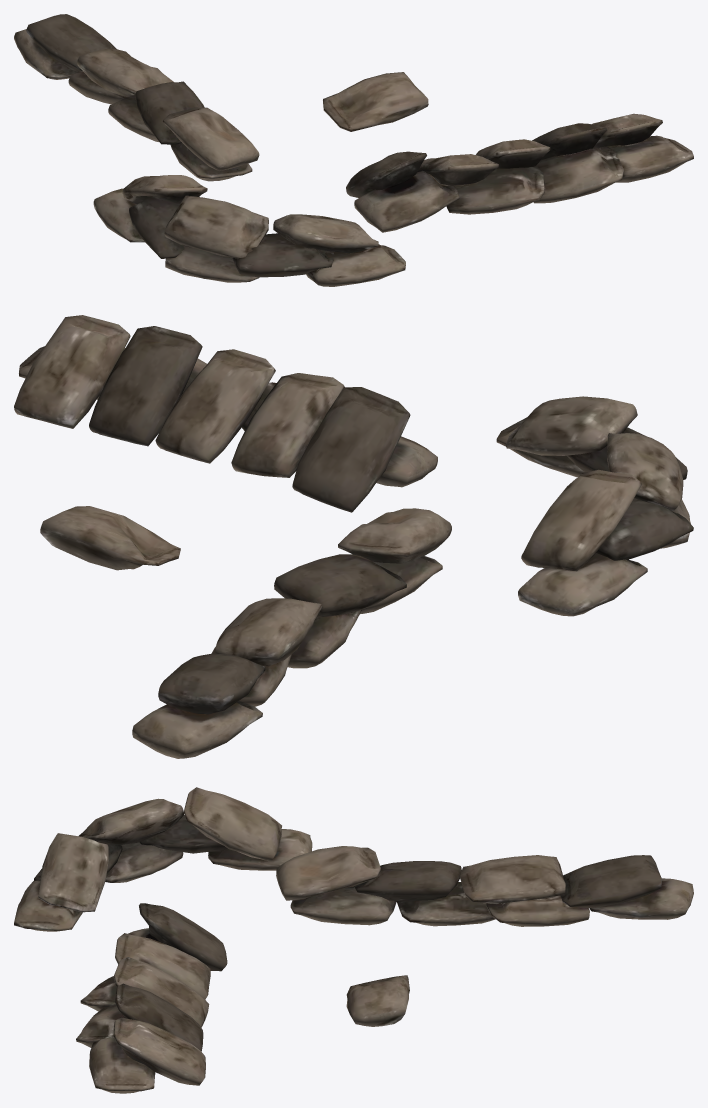
The model's file is p_sandbags.glb.
The picture shows the model from 3 angles, top to bottom: view 1: azimuth 30°, elevation 25°; view 2: azimuth 150°, elevation 25°; view 3: azimuth 270°, elevation 25°; orthographic projection. The views are drawn at different scales.
Visible parts, largest first — view 1: Object_2; view 2: Object_2; view 3: Object_2.
Part boxes in pixels (x1=…): Object_2: x1=14, y1=14, x2=693, y2=286; Object_2: x1=14, y1=315, x2=693, y2=758; Object_2: x1=14, y1=787, x2=693, y2=1093.
Size of the model in its own units: 9.1 by 1.21 by 10.18.
Materials: 1 (1 with a texture image).
